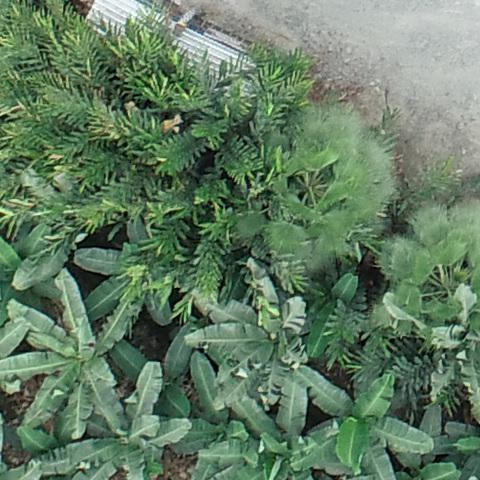Banana-plant: (0, 268, 149, 444), (182, 262, 311, 413), (290, 356, 434, 480), (53, 357, 191, 480), (194, 382, 338, 480), (73, 210, 175, 325), (104, 314, 199, 424)
